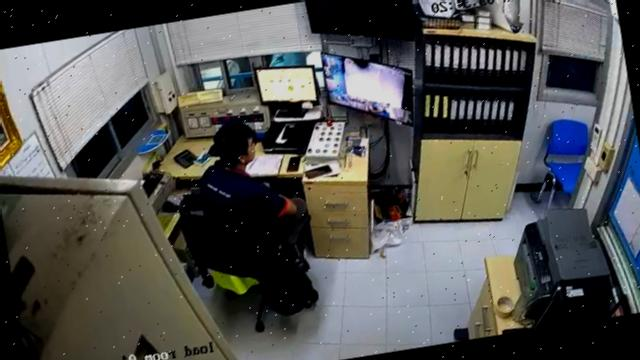Head: (208, 120, 258, 168)
People: (199, 123, 307, 245)
Phone: (303, 164, 334, 177), (285, 155, 302, 171)
